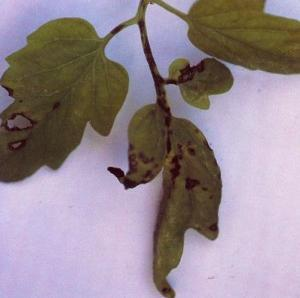Tomato leaf bacterial spot: (3, 15, 128, 190), (111, 99, 215, 297)
